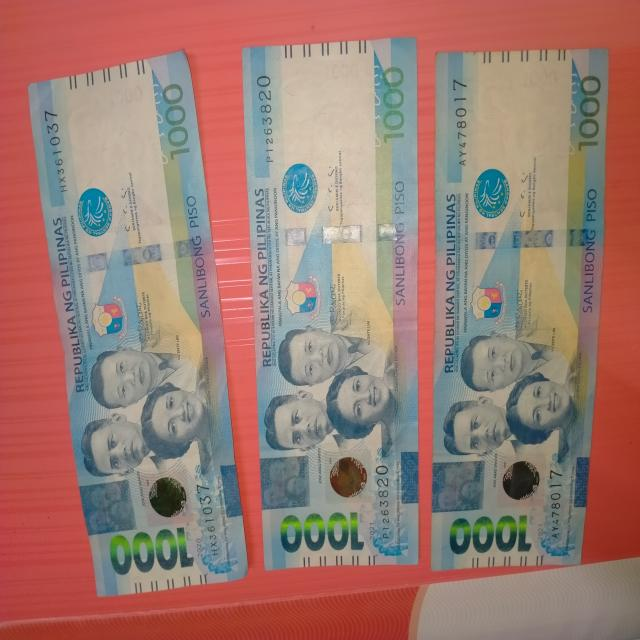concealed_value: (77, 478, 139, 539), (432, 456, 488, 512), (260, 456, 309, 508)
optically_variable_device: (486, 451, 545, 515), (319, 442, 375, 509), (140, 465, 194, 525)
see_through_mark: (141, 70, 175, 186), (361, 52, 386, 174), (558, 62, 580, 167)
value_watermark: (318, 58, 362, 84), (518, 66, 560, 90), (103, 86, 146, 106)
watermark: (50, 92, 154, 199), (461, 72, 563, 172)
